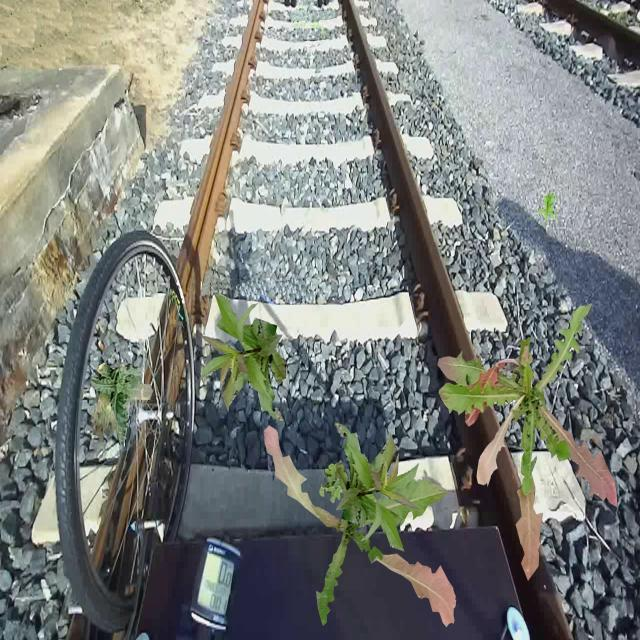Plant: (438, 304, 618, 582), (264, 425, 456, 628), (198, 293, 286, 423), (332, 422, 420, 552), (90, 363, 154, 446), (93, 400, 119, 442), (319, 463, 343, 504), (538, 191, 556, 223)
